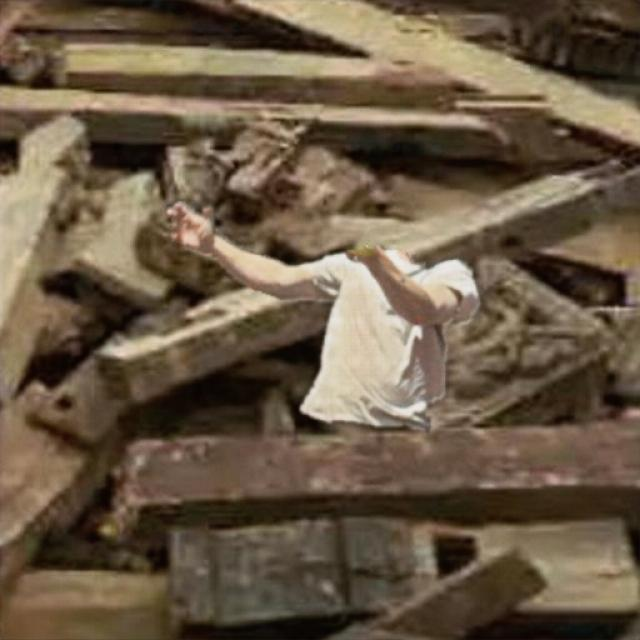Person in Rubble: (167, 200, 478, 431)
